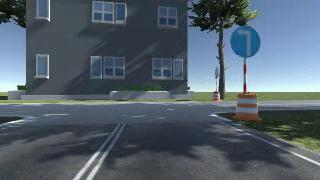turn_left: (230, 26, 261, 57)
